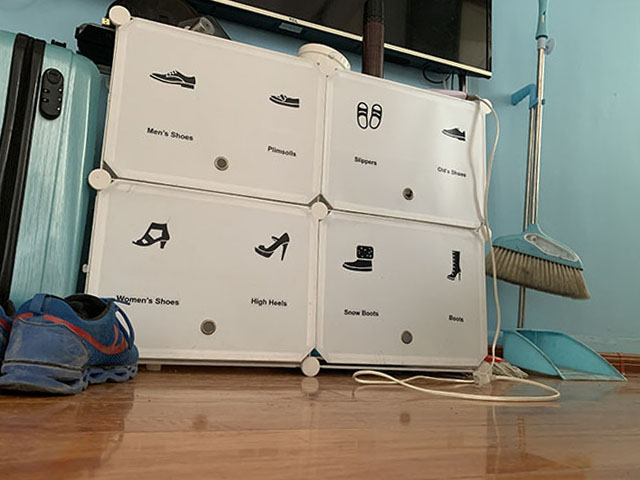cabinet: (79, 5, 494, 378)
wire: (350, 360, 559, 405)
